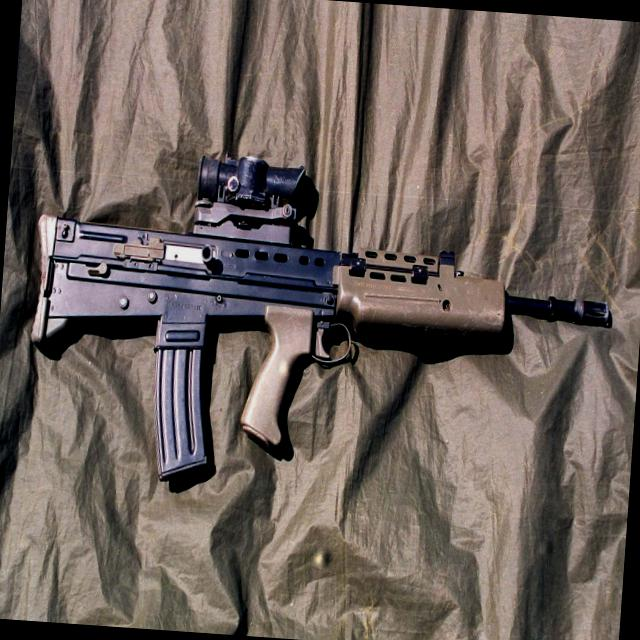long weapon: (13, 130, 628, 462)
